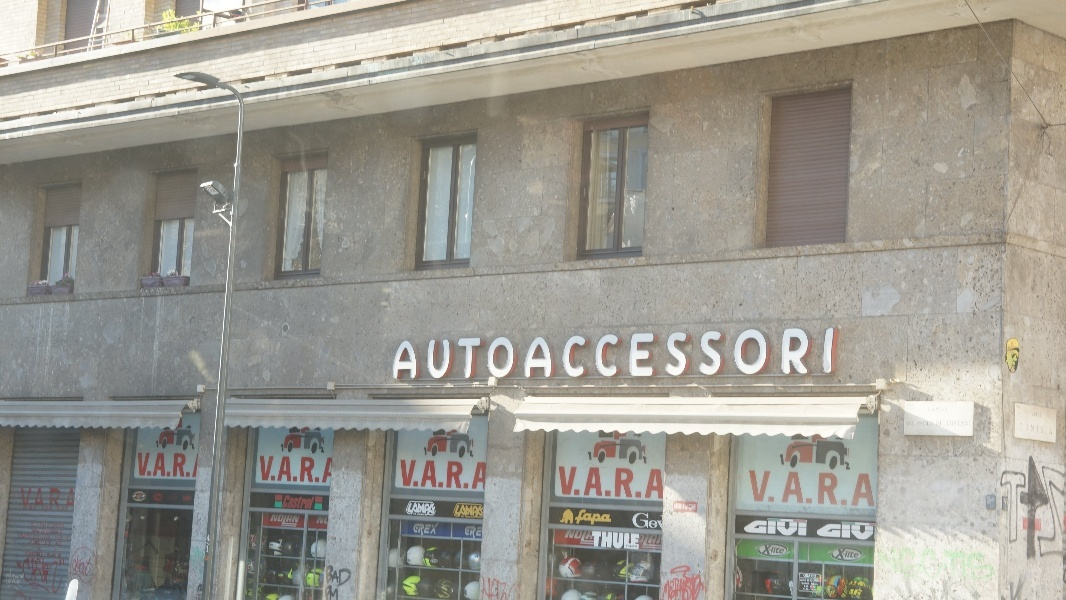text: (1009, 454, 1024, 558), (1025, 454, 1040, 558), (1041, 454, 1056, 558), (1057, 454, 1066, 558), (401, 329, 416, 381), (417, 329, 432, 381), (433, 329, 448, 381), (449, 329, 464, 381), (465, 329, 480, 381), (481, 329, 496, 381), (497, 329, 512, 381), (513, 329, 528, 381), (529, 329, 544, 381), (545, 329, 560, 381), (561, 329, 576, 381), (577, 329, 592, 381), (593, 329, 608, 381), (609, 329, 624, 381), (625, 329, 640, 381), (641, 329, 656, 381), (657, 329, 672, 381), (673, 329, 688, 381), (689, 329, 704, 381), (705, 329, 720, 381), (721, 329, 736, 381), (737, 329, 752, 381), (753, 329, 768, 381), (769, 329, 784, 381), (785, 329, 800, 381), (801, 329, 816, 381), (817, 329, 832, 381), (1002, 454, 1008, 558), (33, 559, 48, 595), (49, 559, 64, 595), (753, 471, 768, 507), (769, 471, 784, 507), (785, 471, 800, 507), (801, 471, 816, 507), (817, 471, 832, 507), (833, 471, 848, 507), (849, 471, 864, 507), (561, 467, 576, 499), (577, 467, 592, 499), (593, 467, 608, 499), (609, 467, 624, 499), (625, 467, 640, 499), (641, 467, 656, 499), (401, 460, 416, 490), (417, 460, 432, 490), (433, 460, 448, 490), (449, 460, 464, 490), (465, 460, 480, 490), (881, 551, 896, 580), (897, 551, 912, 580), (913, 551, 928, 580), (929, 551, 944, 580), (945, 551, 960, 580), (961, 551, 976, 580), (977, 551, 992, 580), (273, 456, 288, 483), (289, 456, 304, 483), (305, 456, 320, 483), (145, 453, 160, 478), (161, 453, 176, 478), (177, 453, 192, 478), (337, 566, 353, 589), (33, 488, 48, 512), (49, 488, 64, 512), (22, 559, 32, 595), (865, 471, 875, 507), (481, 578, 496, 600), (497, 578, 512, 600), (260, 456, 272, 483), (321, 456, 333, 483), (81, 555, 95, 577), (833, 521, 848, 541), (849, 521, 864, 541), (593, 531, 608, 550), (609, 531, 624, 550), (769, 518, 784, 537), (785, 518, 800, 537), (324, 566, 336, 589), (593, 509, 608, 527), (801, 574, 816, 592), (625, 531, 639, 550), (21, 488, 32, 512), (65, 488, 76, 512), (833, 329, 838, 381), (641, 513, 656, 530), (578, 509, 592, 527), (417, 501, 432, 517), (465, 503, 480, 519), (289, 495, 304, 510), (577, 530, 592, 545), (641, 534, 656, 549), (657, 467, 664, 499), (865, 521, 876, 541), (757, 518, 768, 537), (17, 568, 27, 588), (822, 521, 832, 541), (273, 514, 288, 527), (417, 523, 432, 536), (769, 544, 785, 556), (467, 526, 480, 540), (65, 559, 70, 595), (7, 568, 16, 588), (1025, 423, 1040, 435), (324, 587, 336, 600), (849, 548, 860, 562), (138, 453, 144, 478), (481, 460, 486, 490), (305, 495, 315, 510), (289, 514, 300, 527), (838, 548, 848, 562), (74, 555, 80, 577), (1041, 423, 1052, 435), (193, 453, 198, 478), (568, 530, 576, 545), (801, 518, 807, 537), (457, 503, 464, 519), (749, 471, 752, 507), (33, 534, 48, 541), (49, 534, 64, 541), (945, 420, 960, 427), (398, 329, 400, 381), (634, 513, 640, 530), (657, 513, 663, 530), (410, 501, 416, 517), (19, 534, 32, 541), (33, 523, 48, 529), (49, 523, 64, 529), (33, 529, 48, 535), (33, 540, 48, 546), (33, 552, 48, 558), (609, 509, 614, 527), (929, 407, 944, 413), (513, 578, 517, 600), (877, 551, 880, 580), (49, 529, 63, 535), (49, 540, 63, 546), (433, 523, 439, 536), (675, 504, 688, 510), (657, 534, 662, 549), (49, 552, 61, 558), (817, 574, 821, 592), (961, 420, 971, 427), (321, 516, 329, 524), (33, 558, 45, 563), (917, 421, 928, 426), (937, 420, 944, 427), (433, 501, 436, 517), (481, 503, 484, 519), (1032, 412, 1040, 418), (1020, 423, 1024, 435), (593, 530, 596, 545), (65, 534, 71, 541), (689, 504, 696, 510), (337, 587, 340, 600), (765, 544, 768, 556), (559, 467, 560, 499), (27, 552, 32, 558), (286, 495, 288, 510), (906, 421, 912, 426), (993, 551, 994, 580), (481, 526, 483, 540), (27, 558, 32, 563), (929, 421, 934, 426), (29, 540, 32, 546), (415, 523, 416, 536), (945, 407, 947, 413), (913, 421, 915, 426), (319, 516, 320, 524), (31, 523, 32, 529), (31, 529, 32, 535), (1041, 412, 1042, 418)
